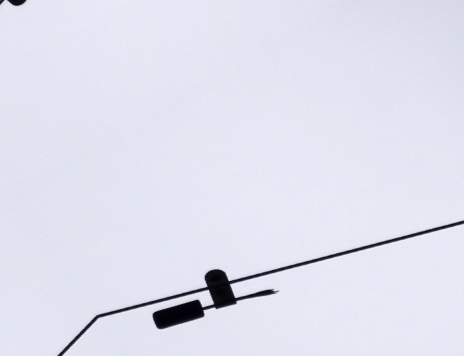damper_defect: (149, 263, 282, 332)
